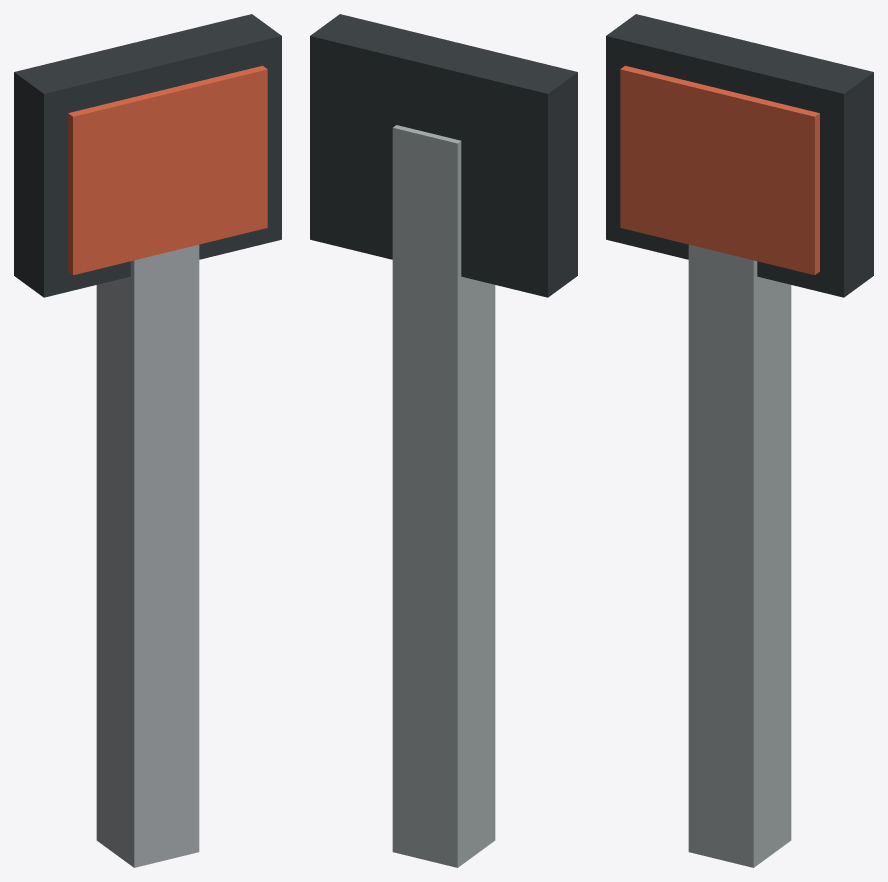
File: grand-prix-circuit-and-open-wheel-marshal-light-panel-b7adf01e__15236.glb
The picture shows the model from 3 angles, left to right: view 1: azimuth 30°, elevation 25°; view 2: azimuth 150°, elevation 25°; view 3: azimuth 330°, elevation 25°; orthographic projection.
Visible parts, largest first — view 1: marshal-light-panel; view 2: marshal-light-panel; view 3: marshal-light-panel.
Boxes of the visible parts, bbox=[...] form: marshal-light-panel: bbox=[14, 14, 281, 867]; marshal-light-panel: bbox=[310, 14, 577, 867]; marshal-light-panel: bbox=[606, 14, 873, 867].
Size of the model in its own units: 0.55 by 1.75 by 0.165.
